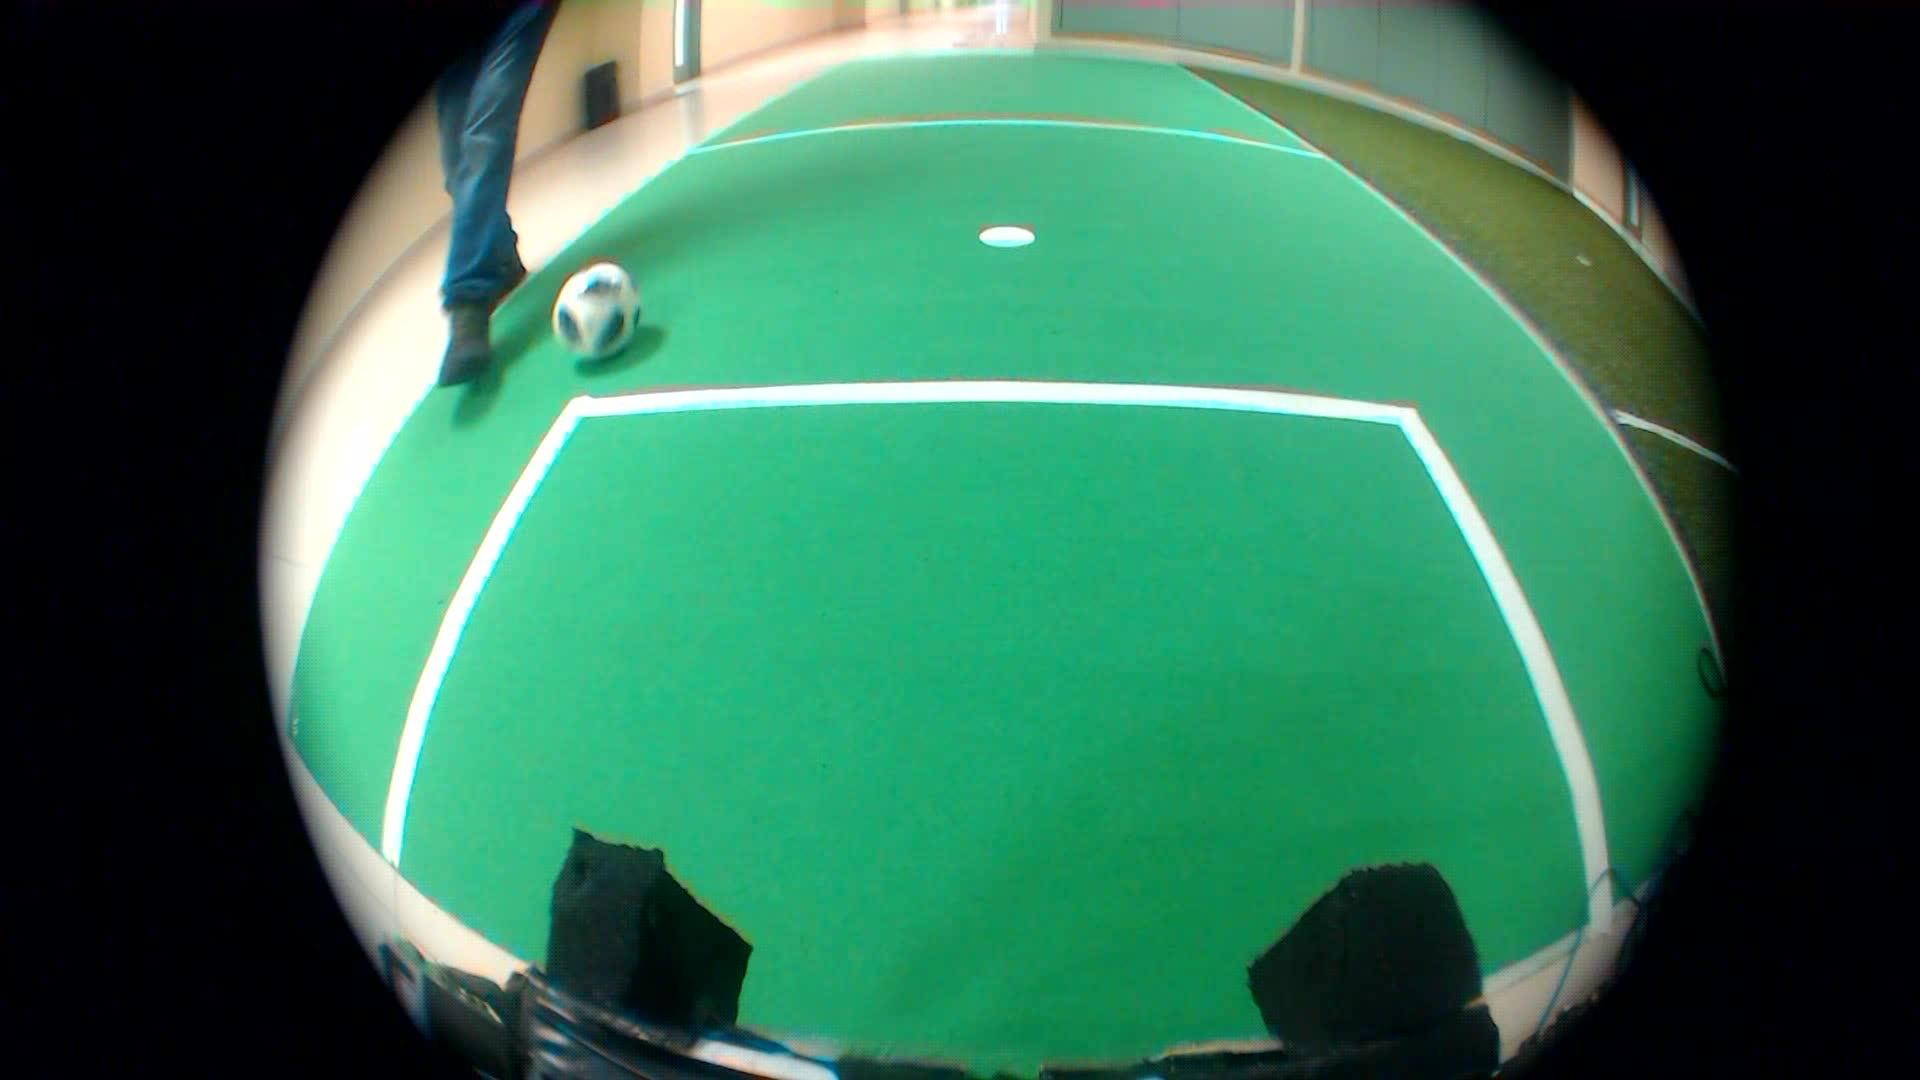ball: (539, 258, 654, 375)
